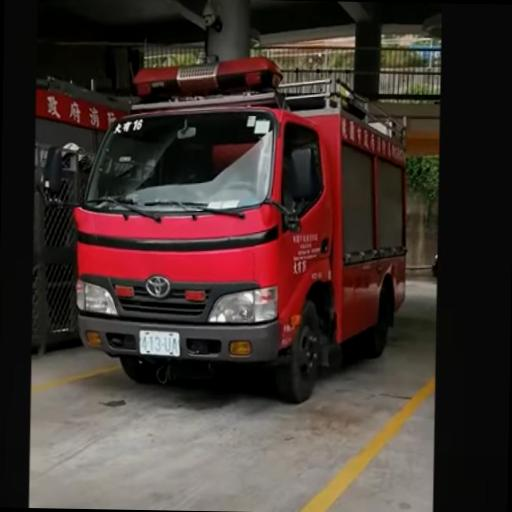fire truck: (73, 57, 405, 402)
